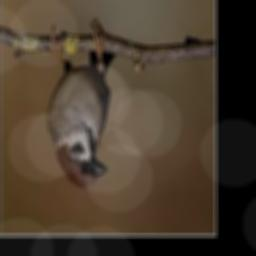Sparrow: (47, 23, 115, 188)
